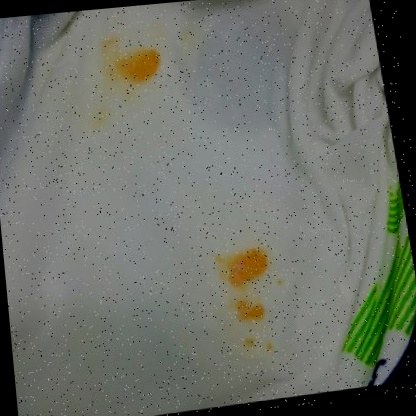kimchi: (96, 31, 162, 84), (212, 240, 274, 293), (89, 92, 133, 131), (225, 294, 273, 328), (237, 333, 280, 357), (276, 275, 288, 289)
